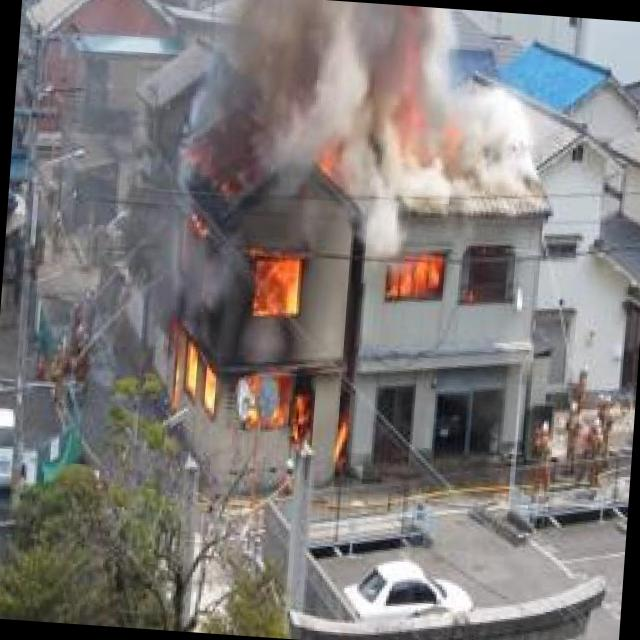Fire: (248, 250, 308, 318), (383, 245, 444, 304), (289, 392, 315, 449), (330, 414, 354, 466), (184, 338, 202, 398), (199, 367, 218, 417)
Smoke: (205, 0, 557, 262)
